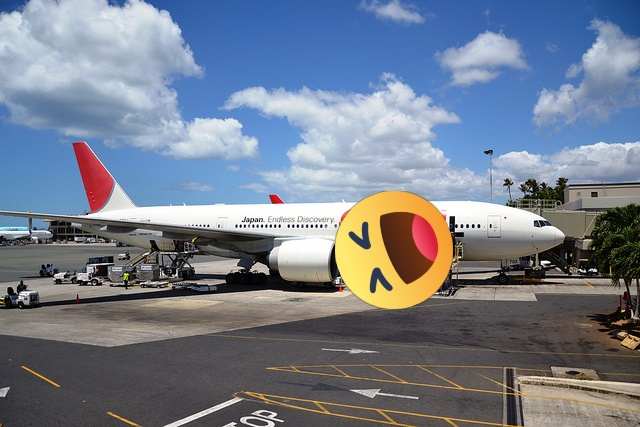haha: (335, 191, 453, 309)
